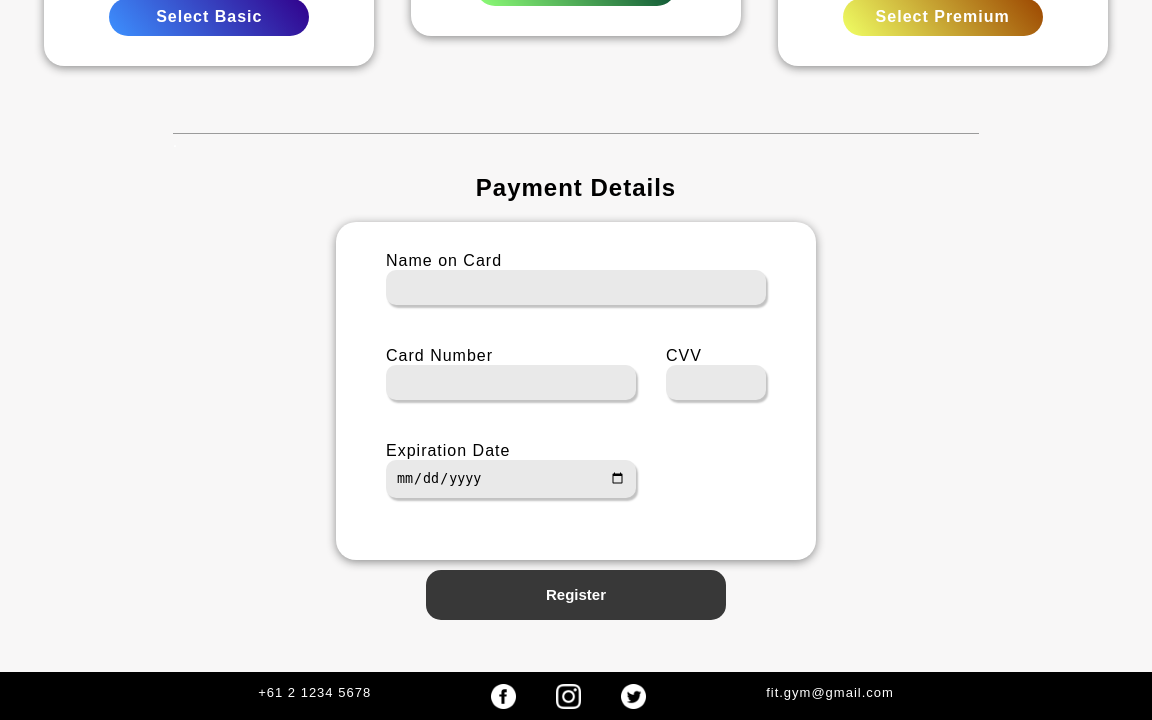
Test: Ensures sign up form inputs meet minimum requirements › Displays error if card is expired.
(page scrolled)
Type "2023-10-21" into the date field labelled "Expiration Date".
click(511, 479); type("2023-10-21")  # box [386,460,636,498]
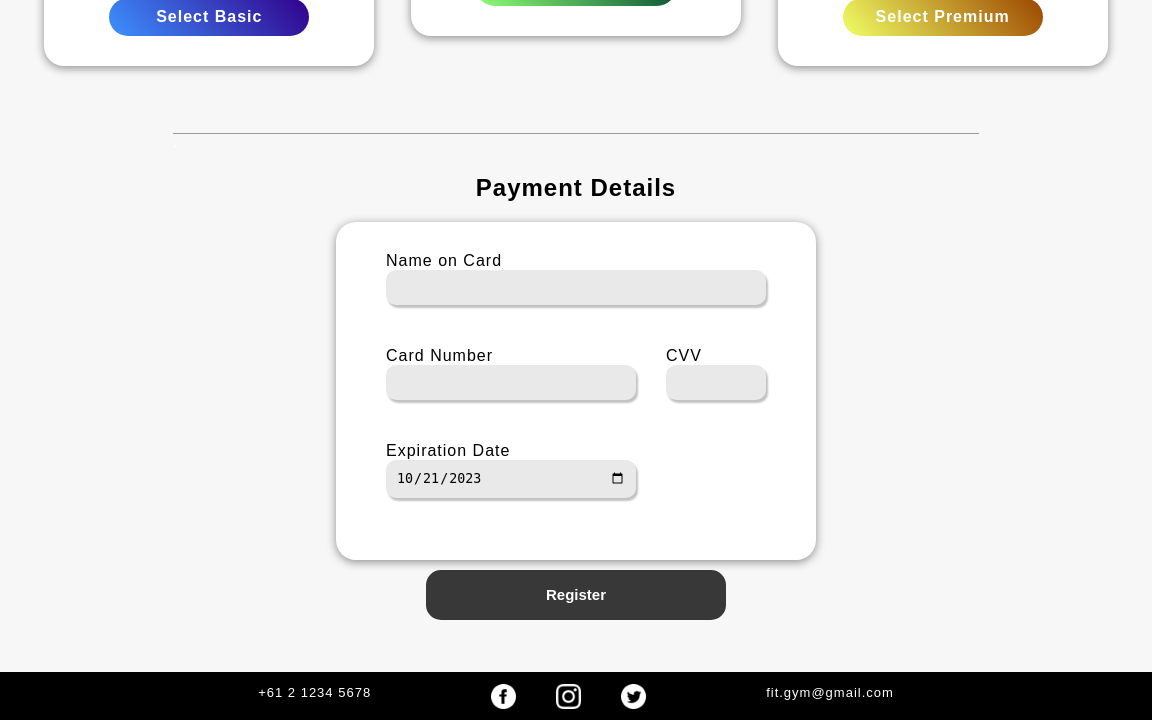
Click the button "Register".
click(576, 595)  # box [426,570,726,620]
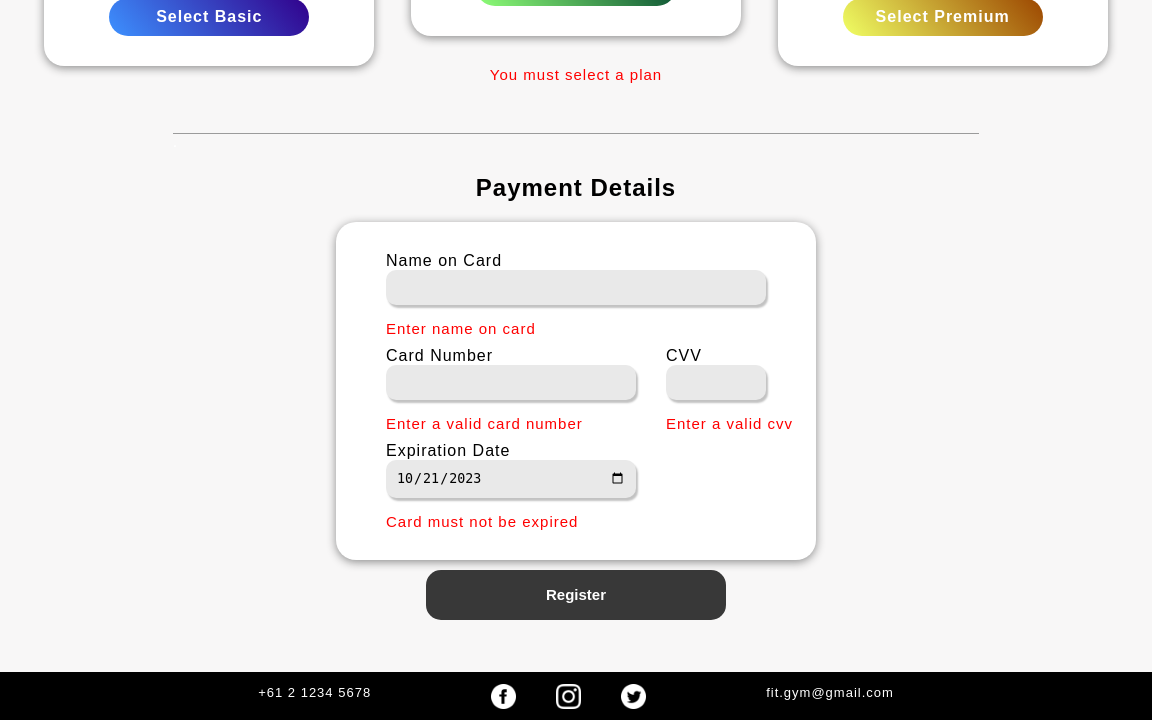
Expected: the text "Card must not be expired" is shown, [386,513,578,530]
